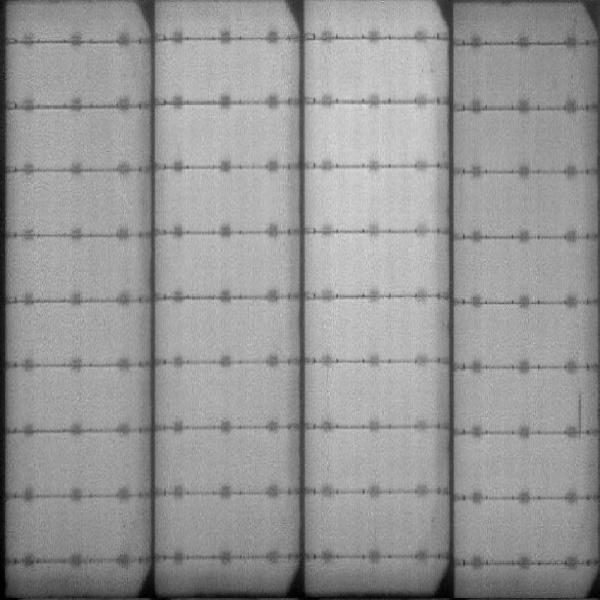scratch: (575, 389, 583, 440)
